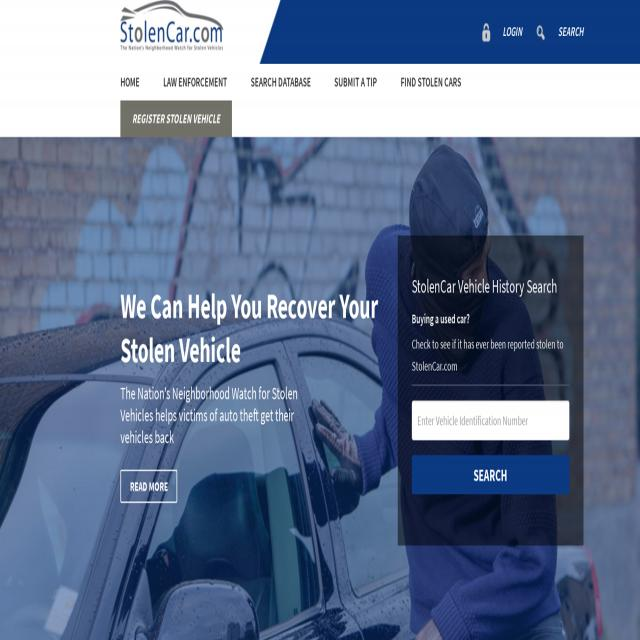button: (416, 392, 565, 557), (120, 0, 223, 51), (120, 470, 178, 503), (120, 478, 178, 494), (470, 24, 502, 42), (524, 26, 558, 40)
field: (416, 311, 565, 530)
